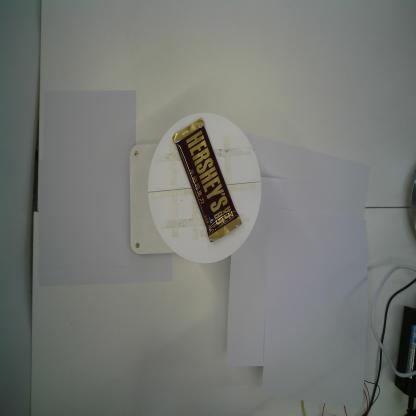Chocolate: (172, 116, 242, 244)
